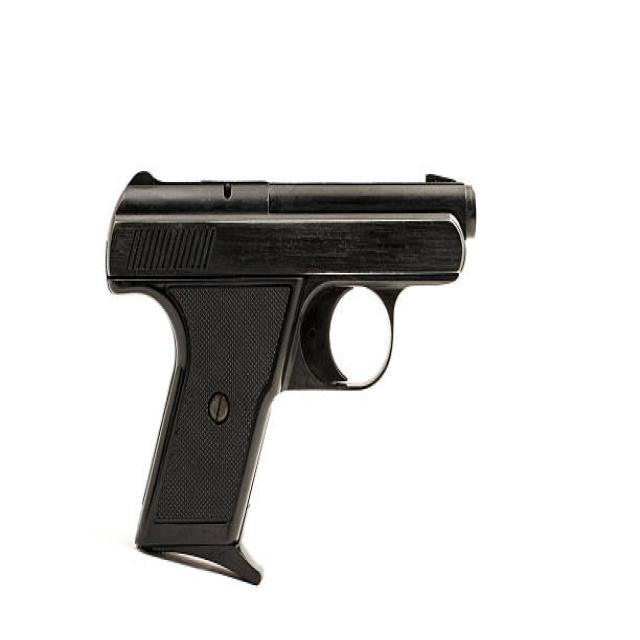pistol: (104, 160, 480, 593)
